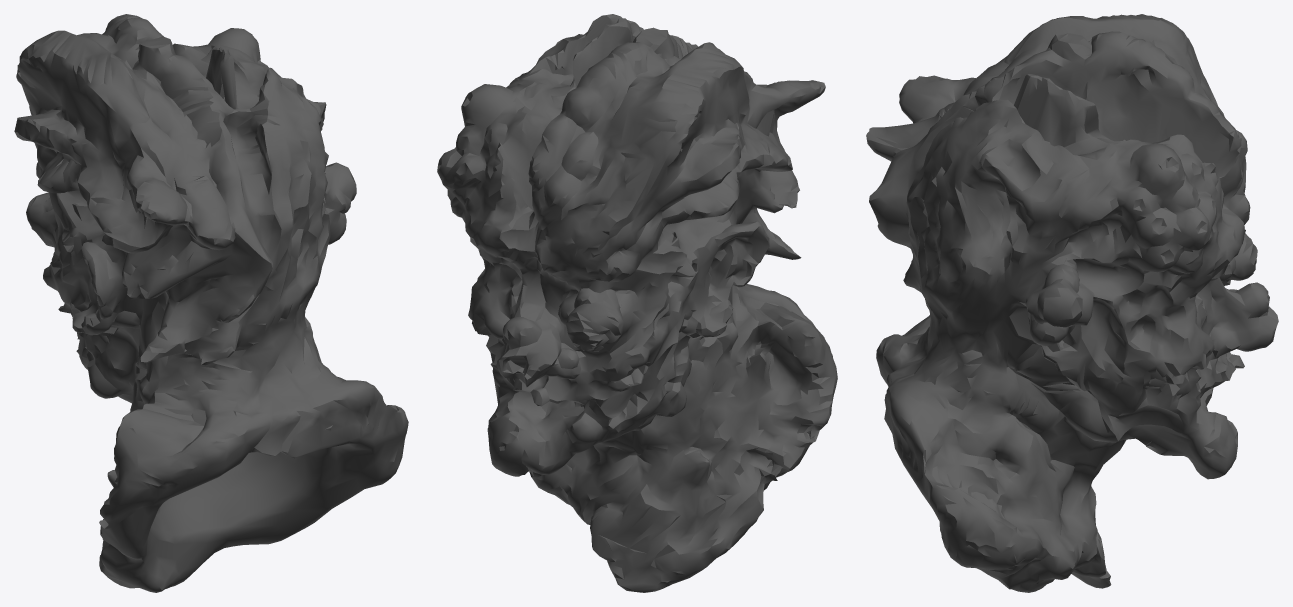
The model's file is 13_head_4.glb.
3 renders of one model, left to right at view 1: azimuth 30°, elevation 25°; view 2: azimuth 150°, elevation 25°; view 3: azimuth 270°, elevation 25°, orthographic.
Visible parts, largest first — view 1: Sphere; view 2: Sphere; view 3: Sphere.
Part boxes in pixels (x1=…): Sphere: x1=14, y1=14, x2=408, y2=592; Sphere: x1=437, y1=14, x2=837, y2=592; Sphere: x1=866, y1=14, x2=1278, y2=592.
Size of the model in its own units: 7.07 by 11.97 by 8.08.
Materials: 1 (1 with a texture image).
